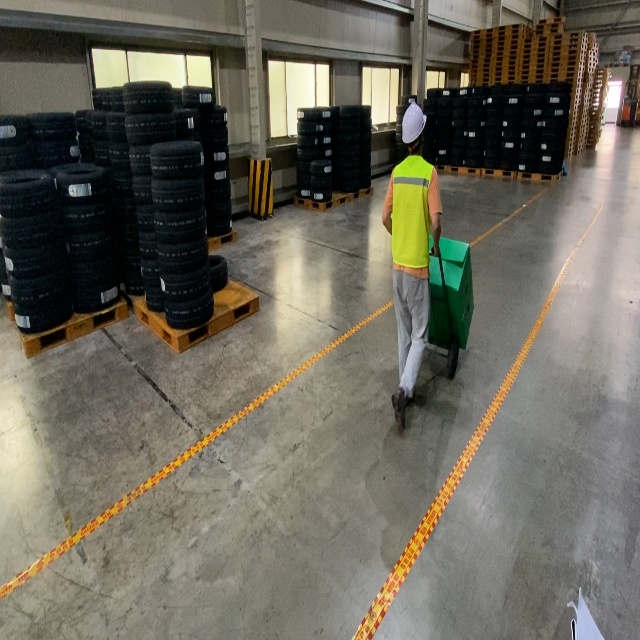Box: (428, 234, 472, 322)
Worker: (382, 102, 443, 435)
